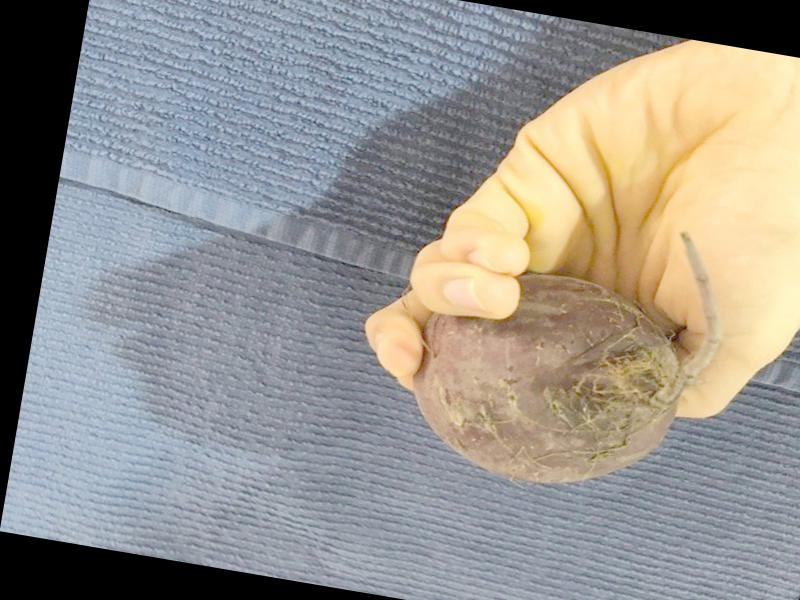Beet: (400, 187, 735, 506)
